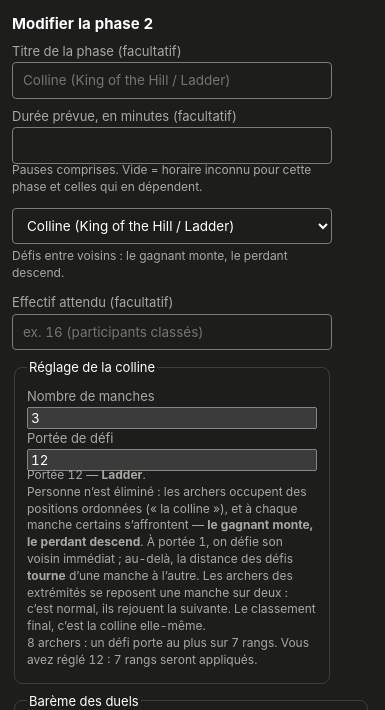
Test: la borne de portée sur l’écran des phases › bascule sur l’effectif DÉCLARÉ dès qu’on en saisit un — c’est lui que le serveur oppose
Expected: the text "8 archers" is shown, [27,635,309,667]
Type "4" into the field labelled "Effectif attendu (facultatif)" at [172, 332], box [12,314,332,350]
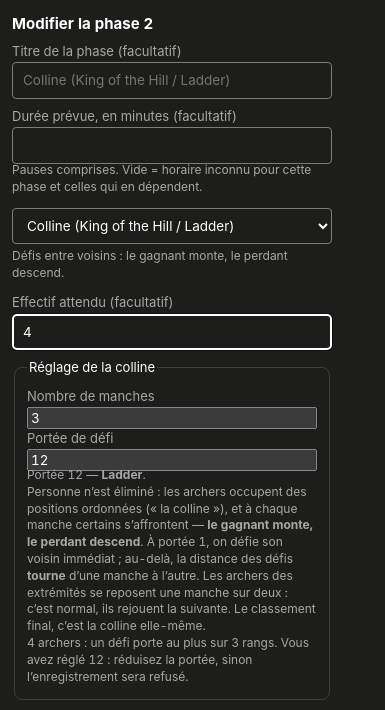
Expected: the text "4 archers : un défi porte au plus sur 3 rangs" is shown, [27,635,309,684]
Expected: the text "8 archers" is gone
